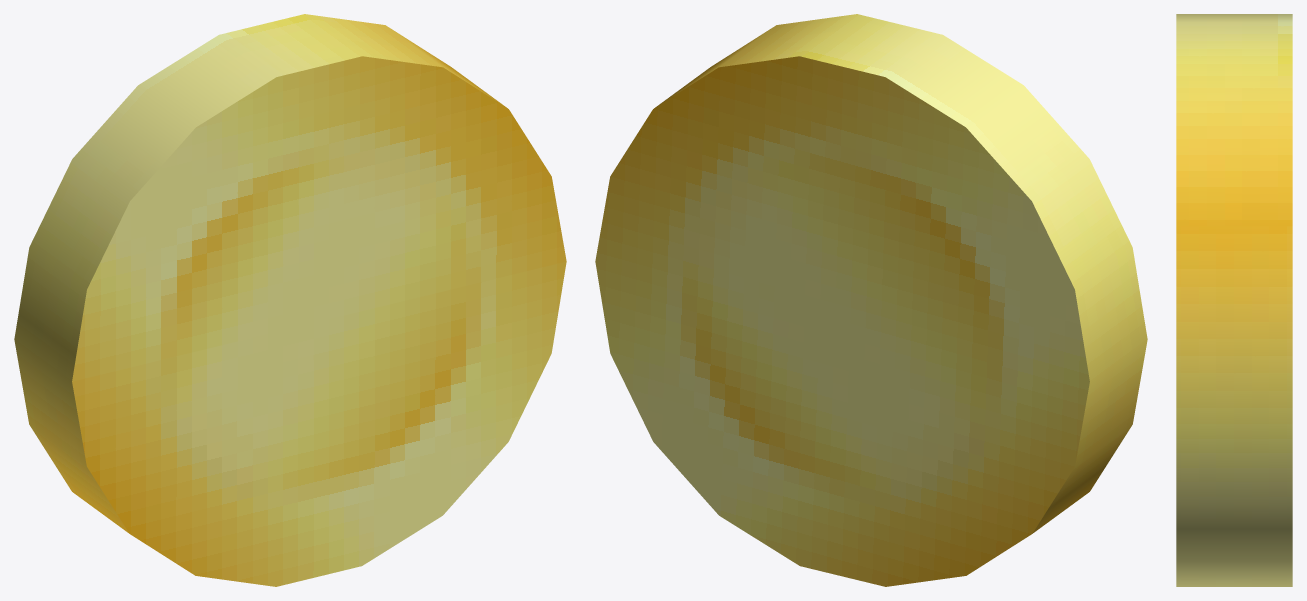
Rendered from Goldcoin01.fbx.
3 renders of one model, left to right at view 1: azimuth 30°, elevation 25°; view 2: azimuth 150°, elevation 25°; view 3: azimuth 270°, elevation 25°, orthographic.
Visible parts, largest first — view 1: Goldcoin01; view 2: Goldcoin01; view 3: Goldcoin01.
Part boxes in pixels (x1,y1,x2,y2): Goldcoin01: (14,14,566,586); Goldcoin01: (595,14,1147,586); Goldcoin01: (1176,14,1292,586).
Size of the model in its own units: 0.2254 by 0.2221 by 0.0456.
